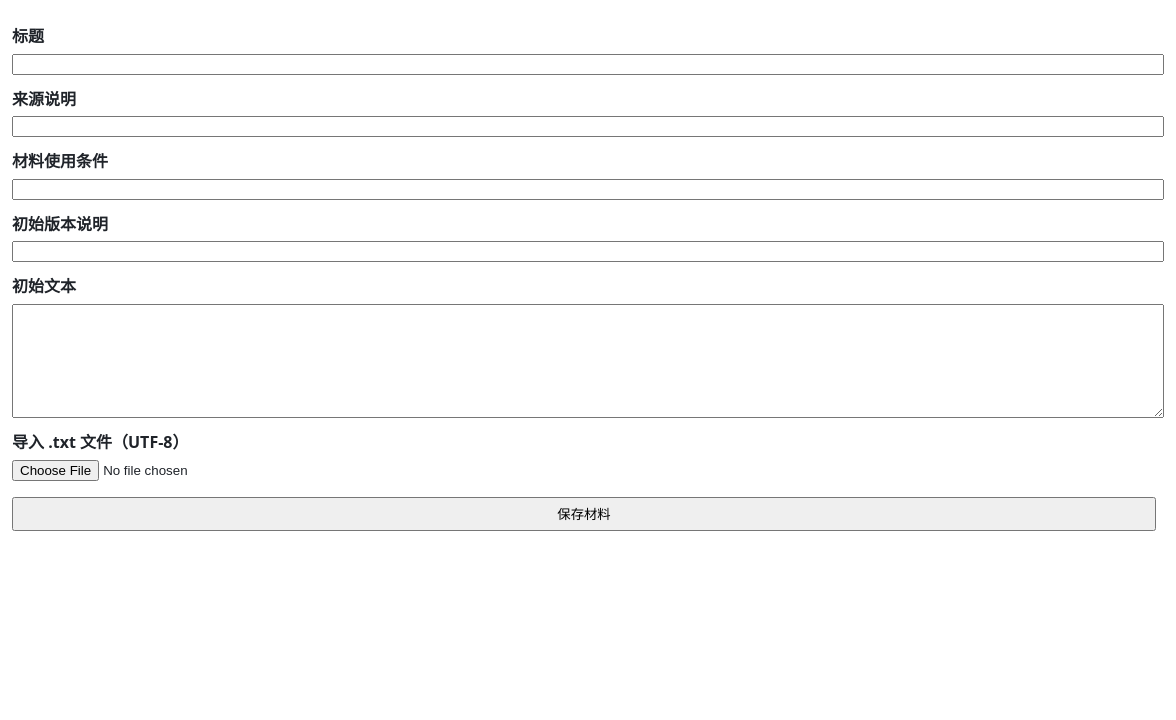
source form › saves a material and reports success
Type "漢書·藝文志" into the field labelled "标题" at (588, 64), box [12,54,1164,75]
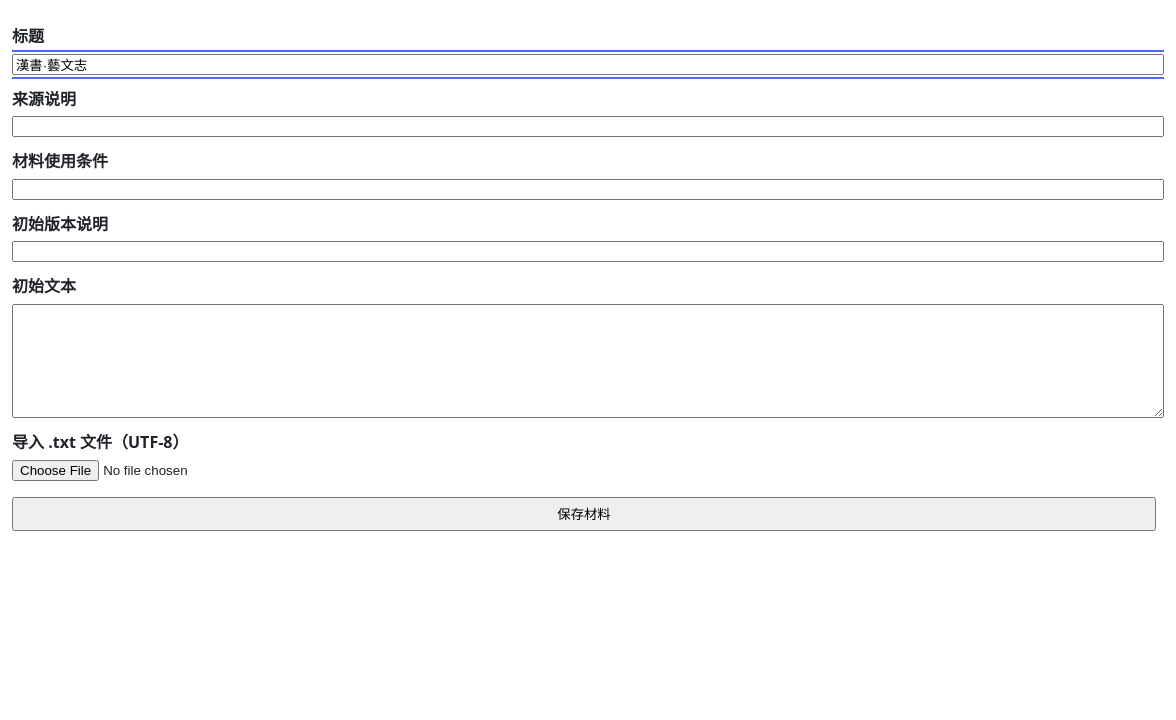
Type "漢興，改秦之敗。" into the text box labelled "初始文本" at (588, 361), box [12,304,1164,418]
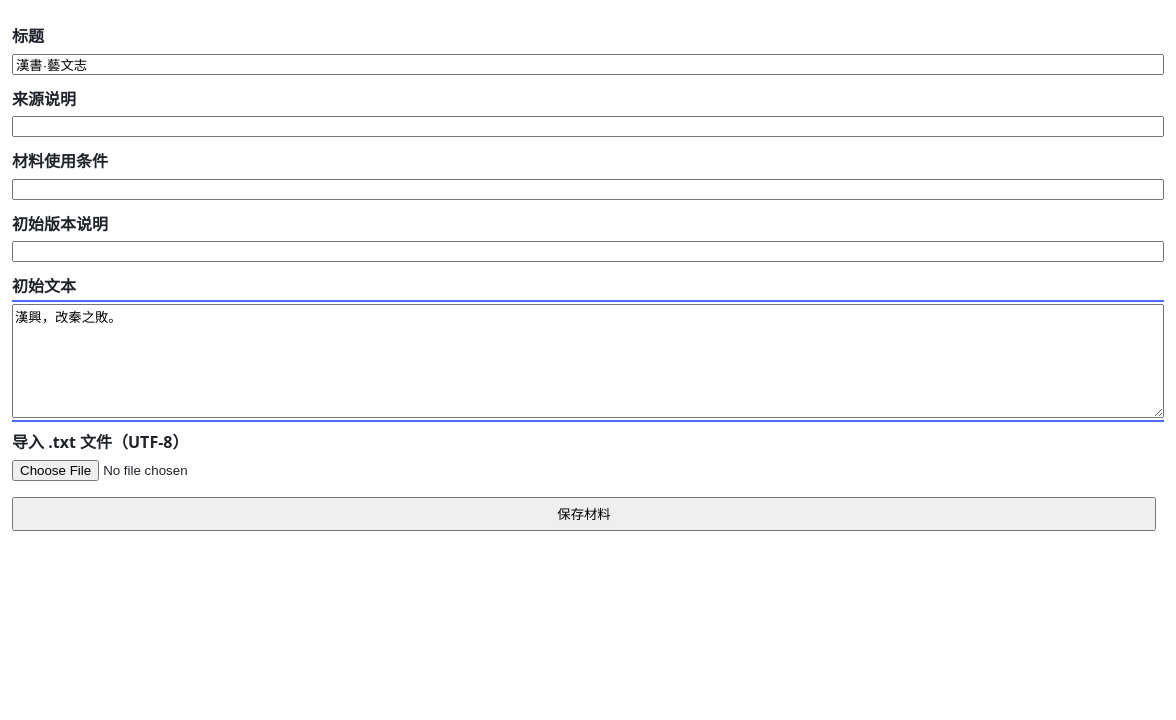
Click the button "保存材料" at (584, 514), box [12,497,1156,531]
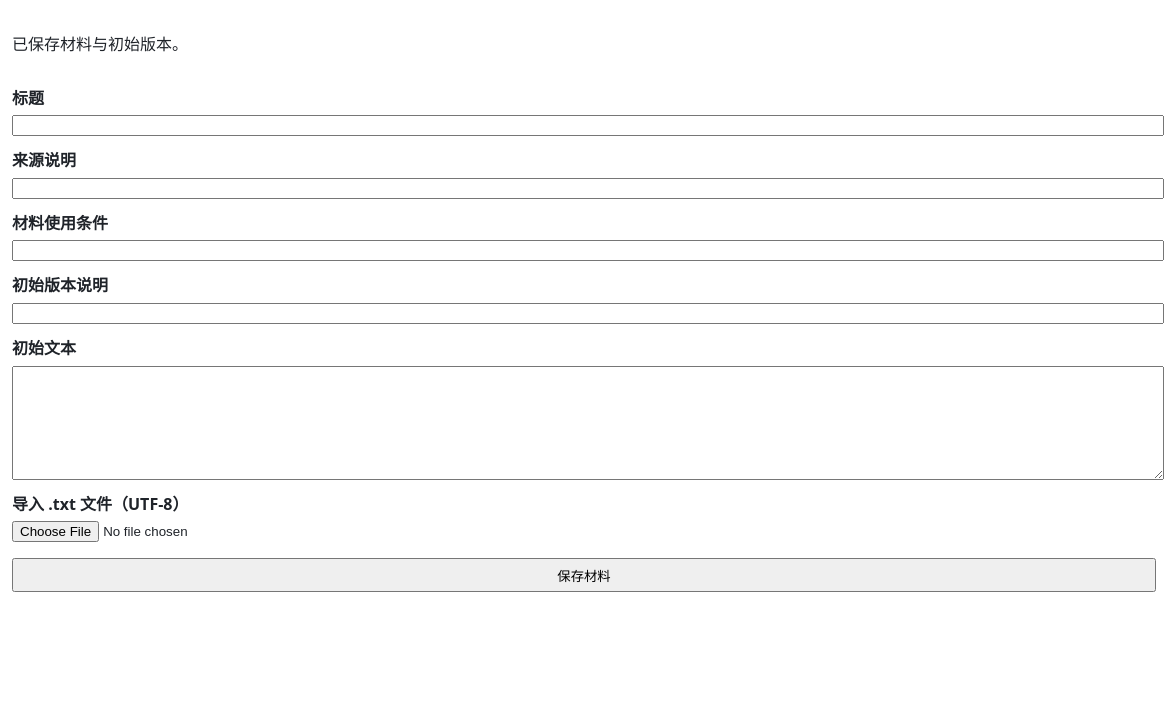
Expected: the message with test id "source-feedback" shows "已保存材料与初始版本", [12,33,188,55]
